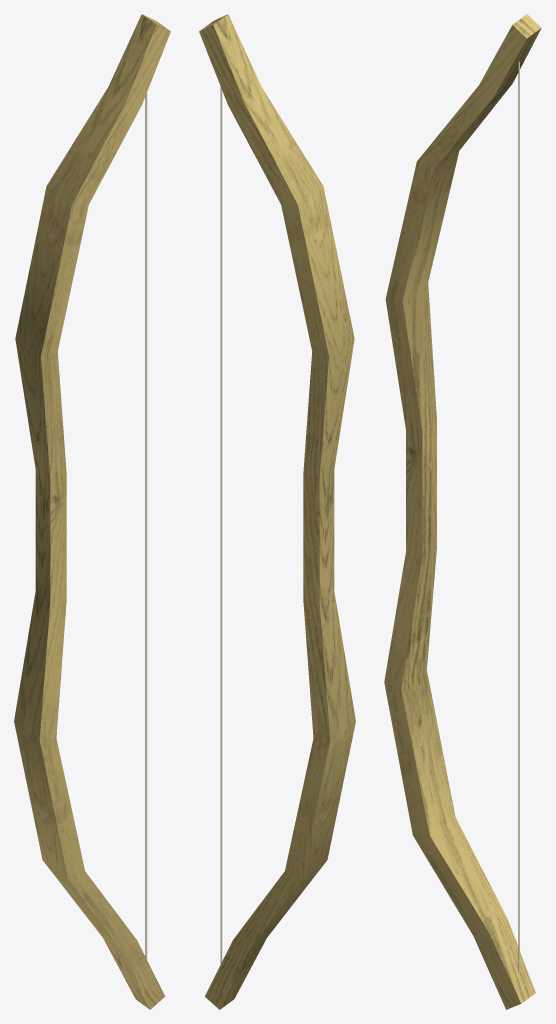
Rendered from adobe_arc_court.gltf.
3 views of the same model, side by side, from view 1: azimuth 30°, elevation 25°; view 2: azimuth 150°, elevation 25°; view 3: azimuth 330°, elevation 25° (orthographic).
Visible parts, largest first — view 1: arc_court; view 2: arc_court; view 3: arc_court.
Boxes of the visible parts, box(x1,y1,x2,y2) form: arc_court: box(14, 14, 170, 1009); arc_court: box(199, 14, 355, 1009); arc_court: box(384, 14, 541, 1009).
Bounding box in the file's own units: 0.1158 × 0.7953 × 0.0374.
1 material, 1 textured.
